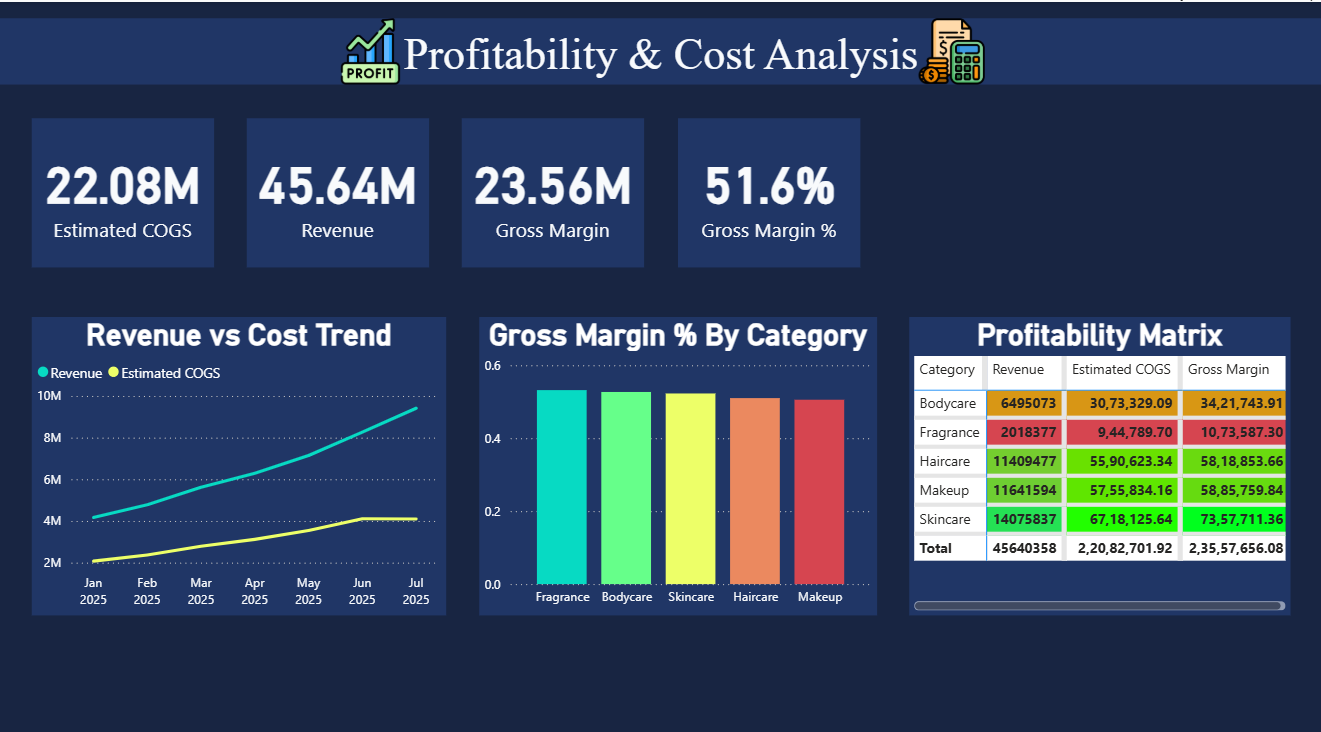

The dashboard page shown, as its layout file describes it:
{"tool":"powerbi","page":{"name":" CFO Dashboard","canvas":[1280,720],"ordinal":2},"visuals":[{"type":"card","fields":{"Values":["KPI_Measures.Title 3"]},"box":[0,16,1280,64],"z":0},{"type":"card","fields":{"Values":["KPI_Measures.Estimated COGS"]},"box":[32,112,176,144],"z":1000},{"type":"card","fields":{"Values":["KPI_Measures.Revenue"]},"box":[240,112,176,144],"z":2000},{"type":"card","fields":{"Values":["KPI_Measures.Gross Margin"]},"box":[448,112,176,144],"z":3000},{"type":"card","fields":{"Values":["KPI_Measures.Gross Margin %"]},"box":[656,112,176,144],"z":4000},{"type":"lineChart","title":"Revenue vs Cost Trend","fields":{"Y":["KPI_Measures.Revenue","KPI_Measures.Estimated COGS"],"Category":["Dim_Date.Month Year"]},"box":[32,304,400,288],"z":5000},{"type":"clusteredColumnChart","title":"Gross Margin % By Category","fields":{"Y":["KPI_Measures.Gross Margin %"],"Category":["Fact_All_Sales.Category"]},"box":[464,304,384,288],"z":6000},{"type":"pivotTable","title":"Profitability Matrix","fields":{"Rows":["Fact_All_Sales.Category"],"Values":["KPI_Measures.Revenue","KPI_Measures.Estimated COGS","KPI_Measures.Gross Margin"]},"box":[880,304,368,288],"z":7000},{"type":"image","box":[272,16,176,64],"z":7001},{"type":"image","box":[832,16,176,64],"z":7002}]}

Visuals, with their boxes in screenshot pixels (x1, y1, x2, y2), scaled from the page's 1280x720 canvas onto the 1321x732 screenshot:
card - KPI_Measures.Title 3: rect(0, 16, 1320, 81)
card - KPI_Measures.Estimated COGS: rect(33, 114, 215, 260)
card - KPI_Measures.Revenue: rect(248, 114, 429, 260)
card - KPI_Measures.Gross Margin: rect(462, 114, 644, 260)
card - KPI_Measures.Gross Margin %: rect(677, 114, 859, 260)
"Revenue vs Cost Trend" lineChart: rect(33, 309, 446, 602)
"Gross Margin % By Category" clusteredColumnChart: rect(479, 309, 875, 602)
"Profitability Matrix" pivotTable: rect(908, 309, 1288, 602)
image: rect(281, 16, 462, 81)
image: rect(859, 16, 1040, 81)
